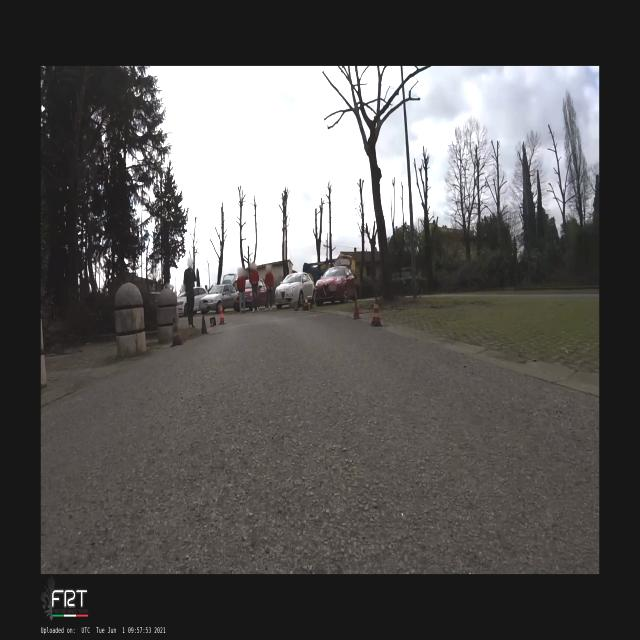large_orange_cone: (170, 316, 183, 346), (370, 298, 382, 326), (218, 304, 227, 324)
orange_cone: (304, 296, 308, 306)
unknown_cone: (201, 316, 209, 334), (353, 302, 361, 320), (210, 317, 216, 327)
